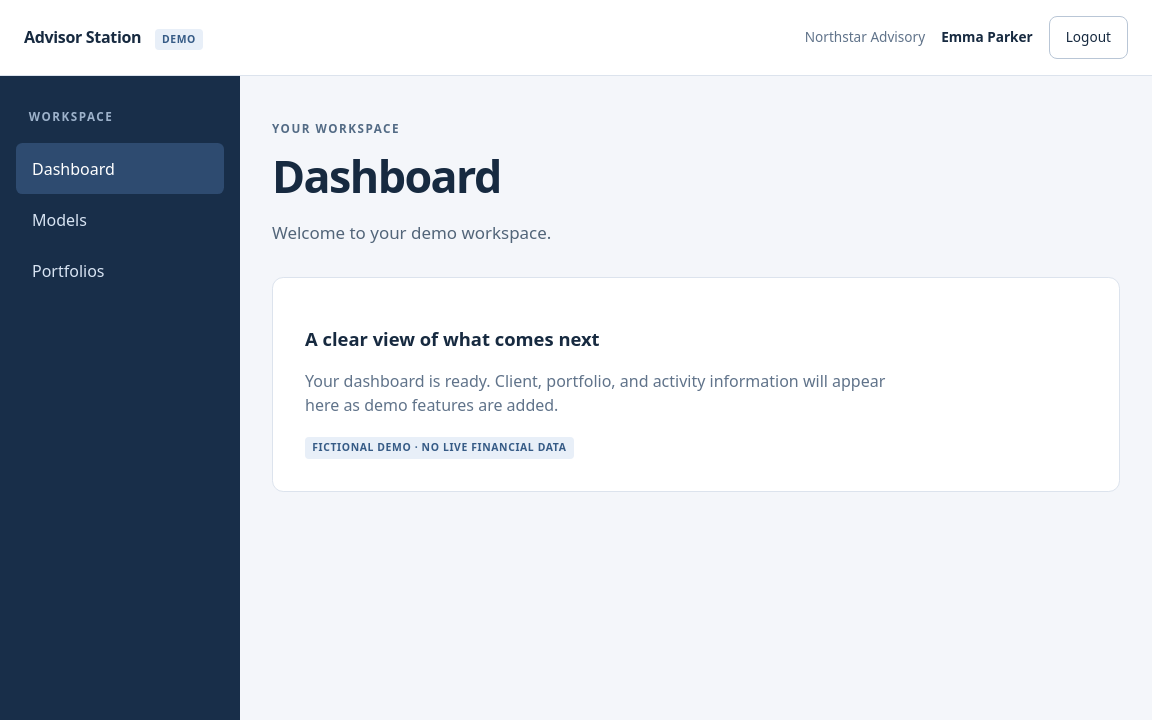
Test case: navigates through Dashboard, Models, and Portfolios and resets model selection on leaving
Step 1. Click the link "Models" → [59, 220], box [32, 209, 87, 231]
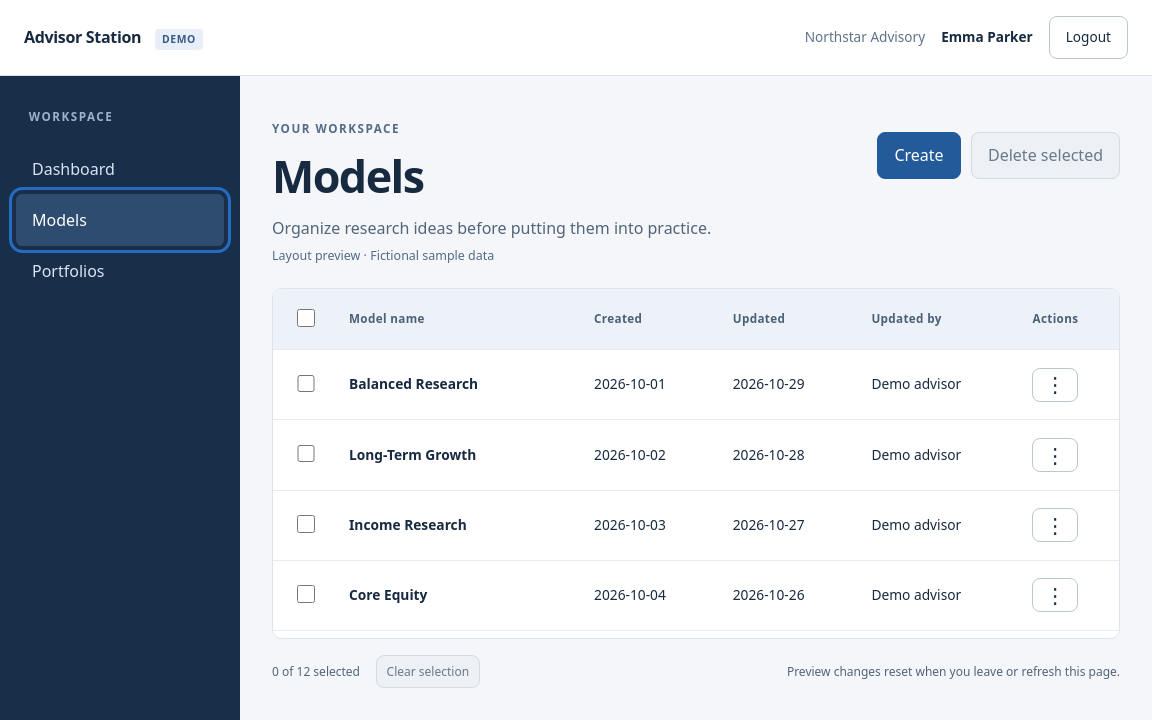
Now the heading "Models" is shown, box [272, 149, 423, 203]
Step 2. Click the checkbox named "Select Balanced Research" → [306, 384], box [297, 375, 315, 392]
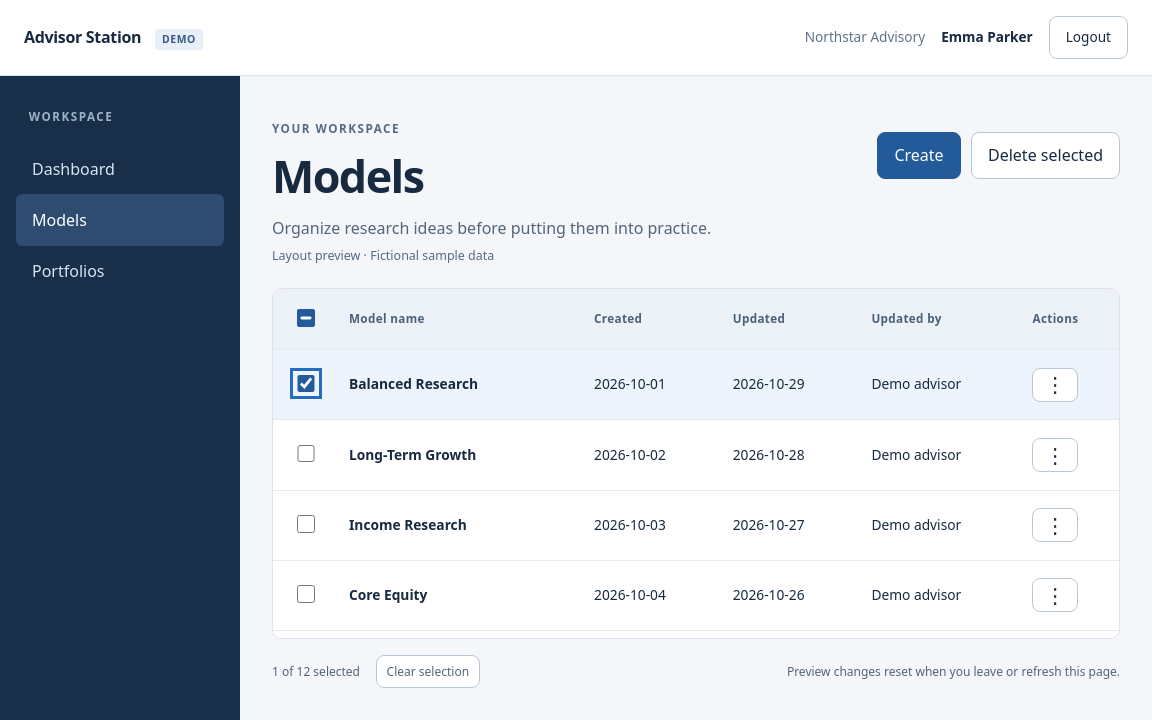
Now the message reads "1 of 12 selected", box [272, 663, 360, 681]
Step 3. Click the link "Portfolios" → [68, 271], box [32, 260, 104, 282]
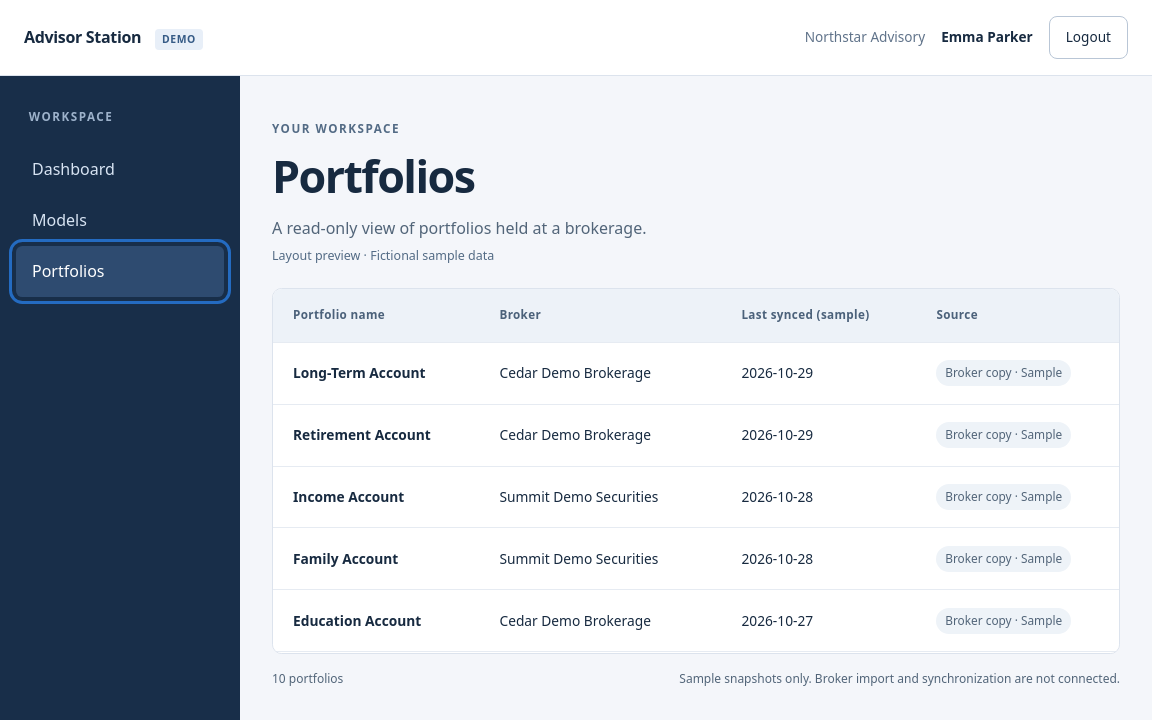
Now the heading "Portfolios" is shown, box [272, 149, 474, 203]
Now the checkbox is gone
Step 4. Click the link "Models" → [59, 220], box [32, 209, 87, 231]
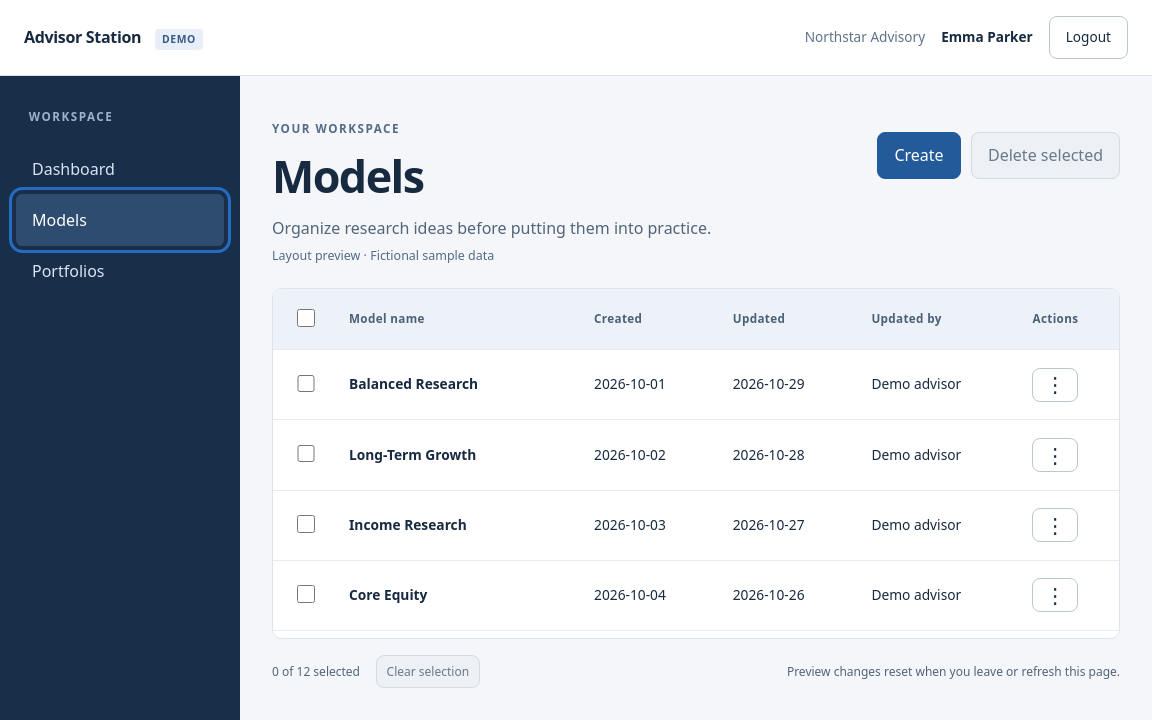
Now the message reads "0 of 12 selected", box [272, 663, 360, 681]
